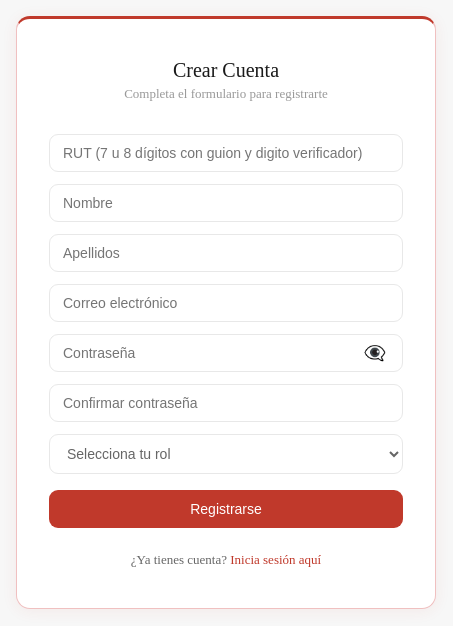
it: Register › sanitiza el RUT al escribir caracteres no permitidos
The width and height of the screenshot is (453, 626).
In the field with placeholder "RUT (7 u 8 dígitos con guion y digito verificador)": coordinates (226, 152) 49,134 -> 403,172, type "13.200.689-kabc"
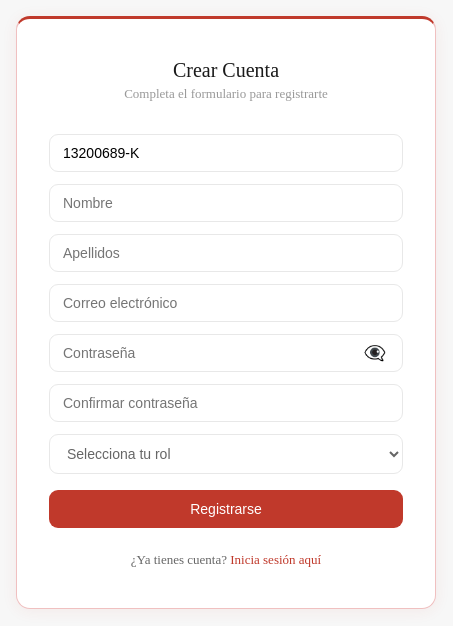
Expected: the field with placeholder "RUT (7 u 8 dígitos con guion y digito verificador)" holds "13200689-K", 49,134 -> 403,172
